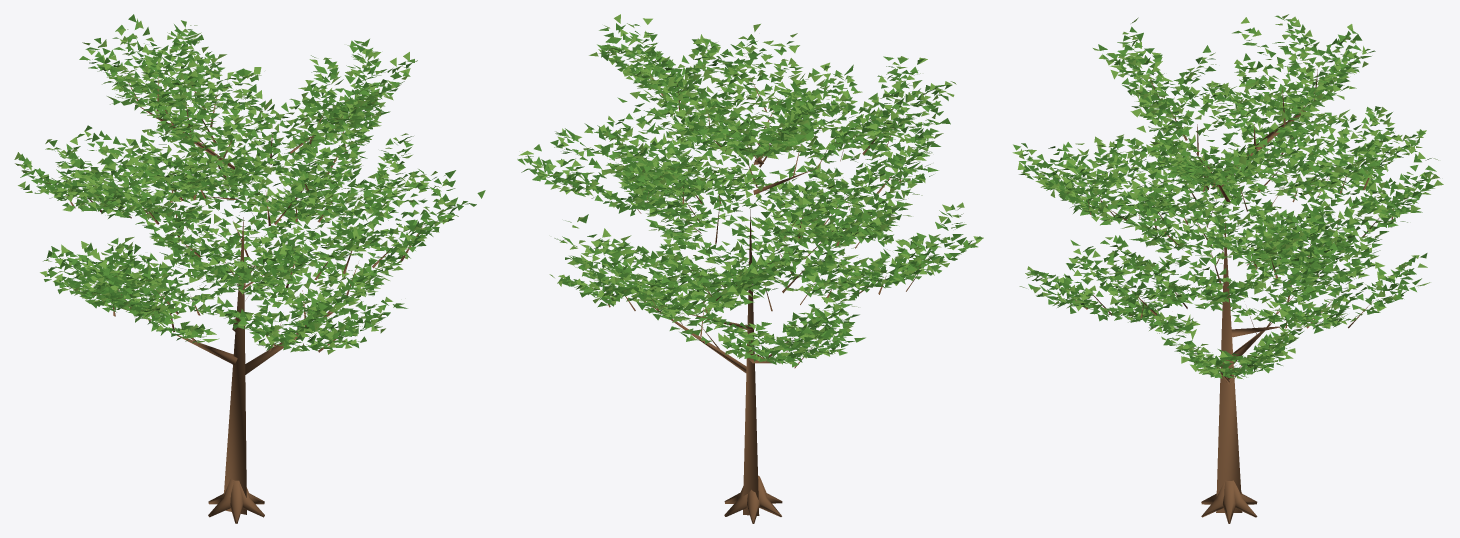
File: oak_far.glb
3 views of the same model, side by side, from view 1: azimuth 30°, elevation 25°; view 2: azimuth 150°, elevation 25°; view 3: azimuth 270°, elevation 25° (orthographic). The views are drawn at different scales.
Visible parts, largest first — view 1: Foliage 1, Foliage 2, Foliage 0, Trunk; view 2: Foliage 2, Foliage 1, Foliage 0, Trunk; view 3: Foliage 2, Foliage 1, Foliage 0, Trunk.
Part boxes in pixels (x1,y1,x2,y2): Foliage 1: (20, 18, 485, 352); Foliage 2: (14, 21, 458, 354); Foliage 0: (18, 14, 476, 350); Trunk: (224, 217, 246, 514); Foliage 2: (519, 14, 983, 363); Foliage 1: (517, 24, 983, 367); Foliage 0: (525, 23, 973, 364); Trunk: (743, 209, 759, 515); Foliage 2: (1012, 14, 1443, 379); Foliage 1: (1013, 15, 1436, 378); Foliage 0: (1021, 19, 1435, 378); Trunk: (1216, 222, 1242, 512).
Size of the model in its own units: 7.74 by 8.61 by 7.51.
